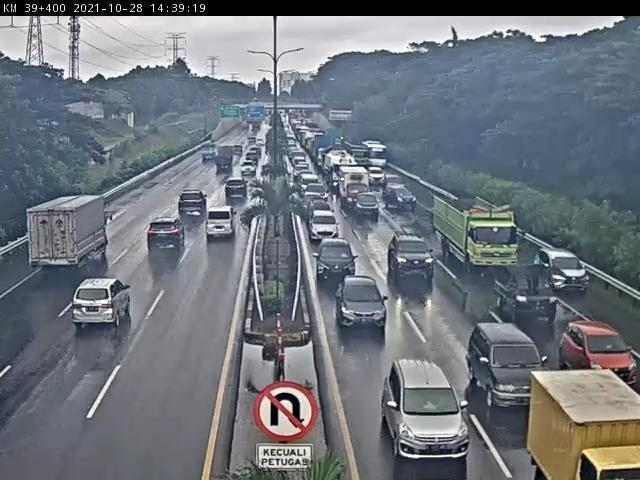car: (381, 360, 471, 463), (468, 322, 547, 404), (562, 325, 640, 390), (73, 282, 134, 329), (336, 278, 387, 328), (388, 234, 436, 276), (534, 250, 585, 289), (317, 239, 354, 280), (146, 219, 182, 252), (208, 207, 239, 239), (309, 208, 338, 242), (382, 187, 421, 211), (180, 190, 211, 217), (355, 192, 380, 215), (224, 179, 248, 200), (383, 174, 408, 193), (305, 191, 326, 211), (308, 199, 332, 215), (306, 184, 329, 200)
truck: (432, 193, 516, 266), (29, 196, 107, 268), (496, 267, 559, 319), (341, 170, 371, 205)
